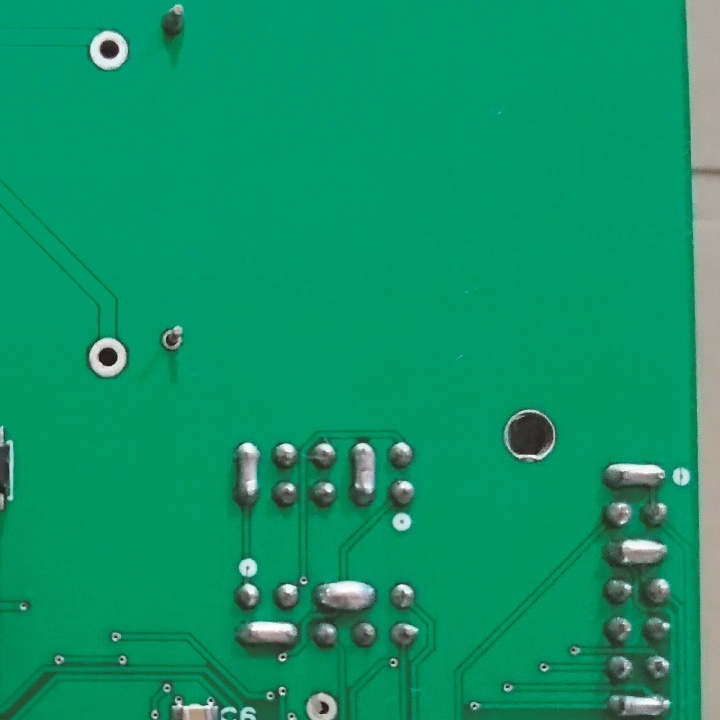F: (86, 28, 133, 76), (87, 334, 130, 382), (303, 689, 339, 720), (160, 320, 187, 356)
P: (599, 458, 669, 495), (233, 615, 301, 651), (310, 580, 381, 613), (600, 536, 675, 566), (233, 435, 263, 509), (606, 688, 673, 720), (350, 434, 376, 512)
